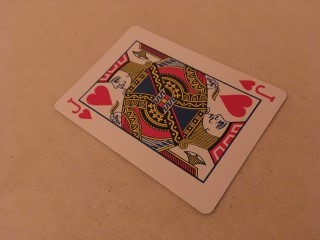JackOfHearts: (55, 26, 286, 215)
